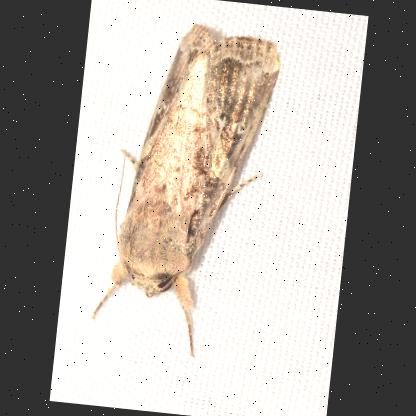Fall Armyworm Moth: (85, 12, 287, 367)
